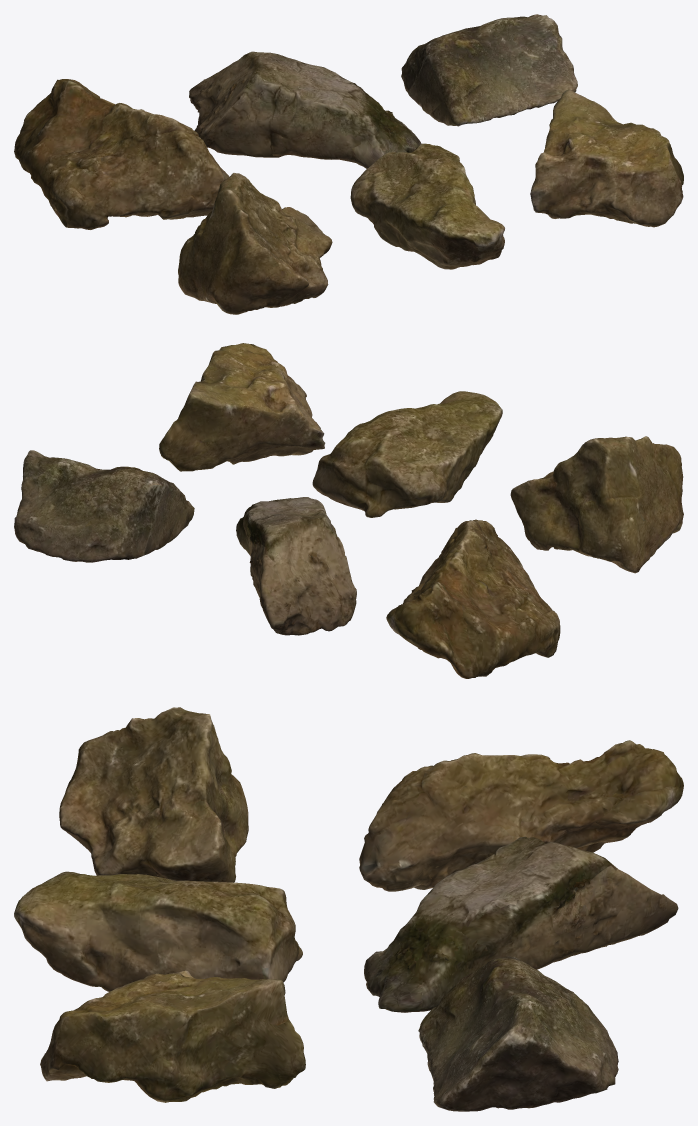
The model's file is rock_moss_set_01.glb.
3 views of the same model, one above another, from view 1: azimuth 30°, elevation 25°; view 2: azimuth 150°, elevation 25°; view 3: azimuth 270°, elevation 25° (orthographic). The views are drawn at different scales.
Visible parts, largest first — view 1: rock_moss_set_01_rock01, rock_moss_set_01_rock02, rock_moss_set_01_rock06, rock_moss_set_01_rock04, rock_moss_set_01_rock03, rock_moss_set_01_rock05; view 2: rock_moss_set_01_rock04, rock_moss_set_01_rock01, rock_moss_set_01_rock05, rock_moss_set_01_rock03, rock_moss_set_01_rock06, rock_moss_set_01_rock02; view 3: rock_moss_set_01_rock01, rock_moss_set_01_rock02, rock_moss_set_01_rock05, rock_moss_set_01_rock06, rock_moss_set_01_rock04, rock_moss_set_01_rock03.
Part boxes in pixels (bbox=[...]): rock_moss_set_01_rock01: bbox=[14, 79, 229, 229]; rock_moss_set_01_rock02: bbox=[189, 51, 421, 168]; rock_moss_set_01_rock06: bbox=[530, 89, 683, 227]; rock_moss_set_01_rock04: bbox=[178, 173, 332, 314]; rock_moss_set_01_rock03: bbox=[401, 14, 577, 126]; rock_moss_set_01_rock05: bbox=[350, 143, 504, 269]; rock_moss_set_01_rock04: bbox=[510, 436, 683, 573]; rock_moss_set_01_rock01: bbox=[386, 519, 560, 678]; rock_moss_set_01_rock05: bbox=[312, 391, 502, 517]; rock_moss_set_01_rock03: bbox=[14, 450, 194, 562]; rock_moss_set_01_rock06: bbox=[159, 343, 325, 471]; rock_moss_set_01_rock02: bbox=[236, 497, 356, 635]; rock_moss_set_01_rock01: bbox=[359, 740, 683, 891]; rock_moss_set_01_rock02: bbox=[364, 836, 678, 1012]; rock_moss_set_01_rock05: bbox=[14, 871, 302, 991]; rock_moss_set_01_rock06: bbox=[40, 970, 305, 1102]; rock_moss_set_01_rock04: bbox=[59, 707, 248, 882]; rock_moss_set_01_rock03: bbox=[418, 956, 618, 1111].
Bounding box in the file's own units: 8 × 1.77 × 6.95.
Materials: 1 (1 with a texture image).
